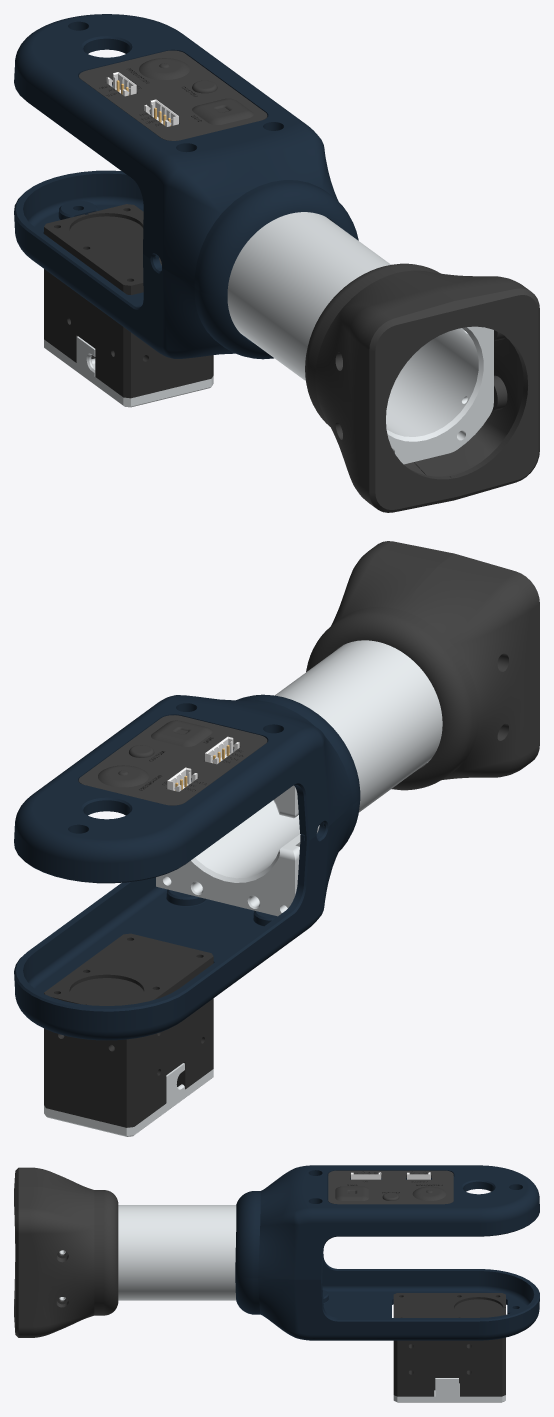
The model's file is forearm_link.dae.
3 views of the same model, one above another, from view 1: azimuth 30°, elevation 25°; view 2: azimuth 150°, elevation 25°; view 3: azimuth 270°, elevation 25° (orthographic). The views are drawn at different scales.
Parts seen in each view (by area): view 1: Body_23, Body_1, Body_27, Body_24, Body_26, Body_25, Body_22, Body_28; view 2: Body_23, Body_24, Body_27, Body_1, Body_25, Body_22, Body_26, Body_28; view 3: Body_23, Body_24, Body_26, Body_1, Body_25, Body_22, Body_27, Body_28.
Part boxes in pixels (left/top/right/bottom): Body_23: left=14, top=14, right=358, bottom=296; Body_1: left=227, top=212, right=493, bottom=464; Body_27: left=305, top=266, right=457, bottom=512; Body_24: left=14, top=170, right=273, bottom=359; Body_26: left=386, top=263, right=539, bottom=499; Body_25: left=44, top=204, right=213, bottom=398; Body_22: left=79, top=50, right=267, bottom=140; Body_28: left=44, top=336, right=213, bottom=407; Body_23: left=14, top=694, right=360, bottom=883; Body_24: left=14, top=797, right=360, bottom=1040; Body_27: left=379, top=553, right=539, bottom=790; Body_1: left=156, top=640, right=442, bottom=916; Body_25: left=44, top=933, right=213, bottom=1127; Body_22: left=78, top=715, right=267, bottom=805; Body_26: left=306, top=541, right=454, bottom=768; Body_28: left=44, top=1063, right=213, bottom=1136; Body_23: left=235, top=1165, right=539, bottom=1279; Body_24: left=235, top=1254, right=539, bottom=1340; Body_26: left=14, top=1187, right=118, bottom=1337; Body_1: left=59, top=1205, right=236, bottom=1300; Body_25: left=393, top=1293, right=505, bottom=1396; Body_22: left=328, top=1170, right=453, bottom=1204; Body_27: left=14, top=1167, right=118, bottom=1301; Body_28: left=393, top=1378, right=505, bottom=1402.
Size of the model in its own units: 0.054 by 0.2177 by 0.0942.
